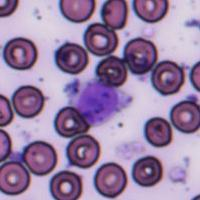L: (74, 80, 127, 126)
